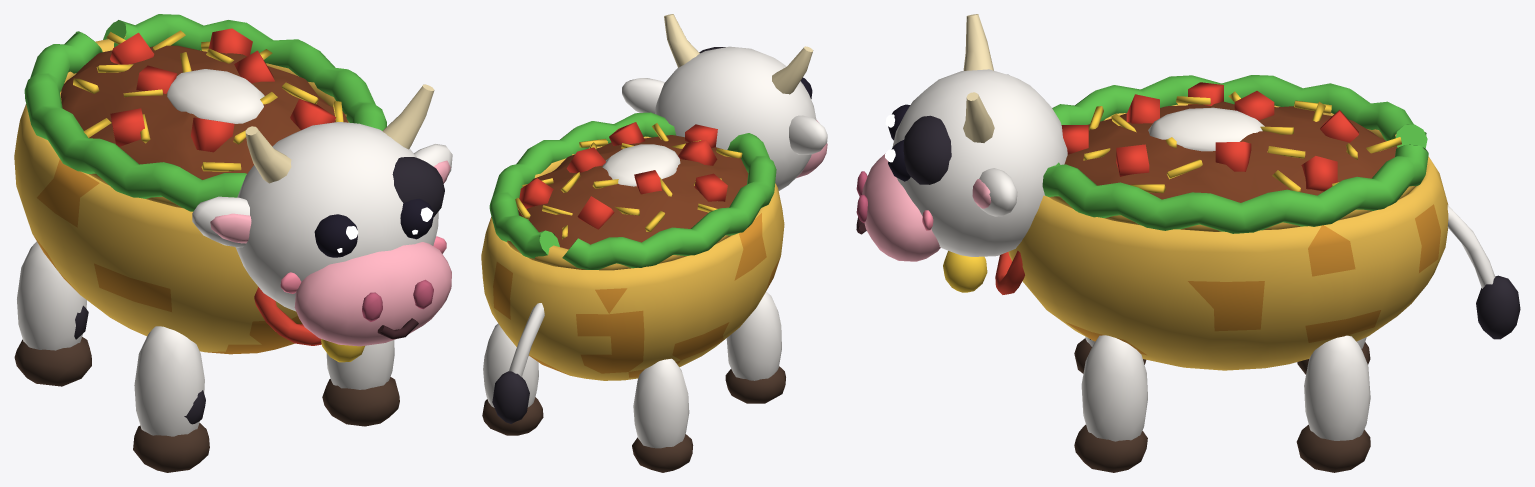
Rendered from pilot_ku_taco_lav.glb.
The picture shows the model from 3 angles, left to right: view 1: azimuth 30°, elevation 25°; view 2: azimuth 150°, elevation 25°; view 3: azimuth 270°, elevation 25°; orthographic projection. The views are drawn at different scales.
Parts seen in each view (by area): view 1: kropp, hode, bein_vf, bein_vb, bein_hf; view 2: kropp, hode, bein_vb, bein_vf, bein_hb, hale; view 3: kropp, hode, bein_hb, bein_hf, hale.
Part boxes in pixels (x1,y1,x2,y2): kropp: (14, 14, 386, 354); hode: (192, 84, 452, 362); bein_vf: (133, 326, 209, 472); bein_vb: (14, 241, 91, 386); bein_hf: (322, 340, 399, 426); kropp: (481, 112, 784, 380); hode: (622, 14, 827, 190); bein_vb: (632, 358, 693, 472); bein_vf: (725, 292, 785, 403); bein_hb: (482, 323, 543, 435); hale: (492, 303, 544, 423); kropp: (1008, 75, 1448, 370); hode: (856, 14, 1067, 294); bein_hb: (1296, 335, 1370, 472); bein_hf: (1074, 335, 1147, 472); hale: (1447, 205, 1520, 339).
Bounding box in the file's own units: 0.8899 × 1.1 × 1.79.
